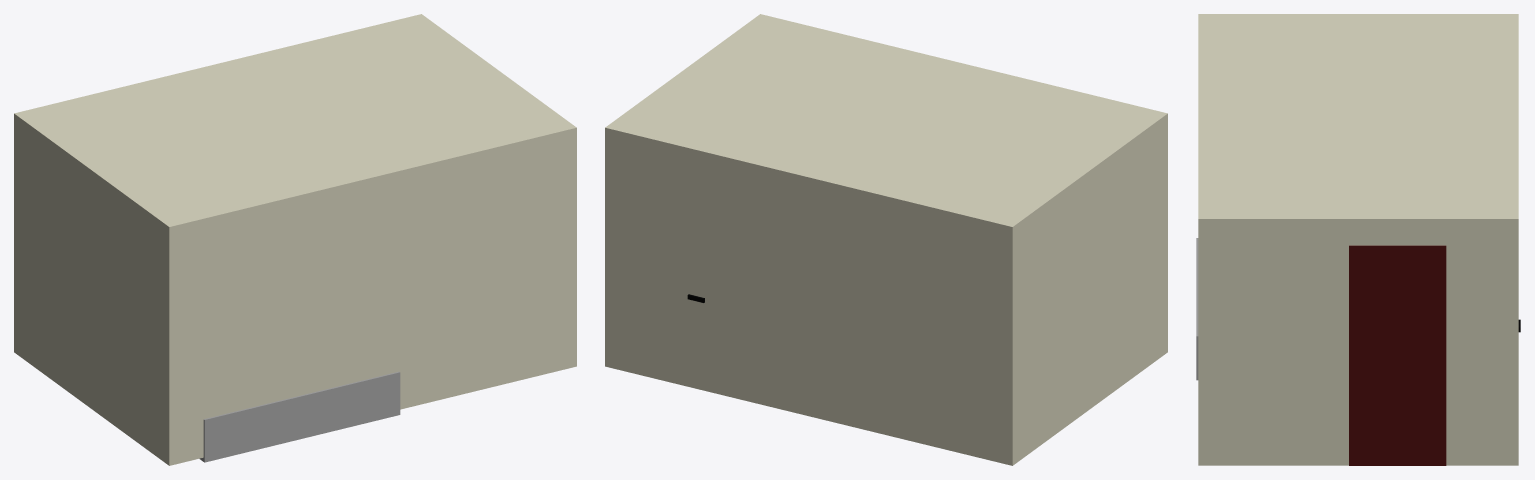
The model's file is myhouse.glb.
The picture shows the model from 3 angles, left to right: view 1: azimuth 30°, elevation 25°; view 2: azimuth 150°, elevation 25°; view 3: azimuth 270°, elevation 25°; orthographic projection. The views are drawn at different scales.
Parts seen in each view (by area): view 1: walls, Box; view 2: walls; view 3: walls, Box (×2).
Part boxes in pixels (bbox=[...]): walls: bbox=[14, 14, 576, 465]; Box: bbox=[199, 371, 400, 462]; walls: bbox=[605, 14, 1167, 465]; walls: bbox=[1198, 14, 1518, 465]; Box (×2): bbox=[1196, 238, 1446, 465].
Size of the model in its own units: 5.01 by 2.85 by 3.34.
